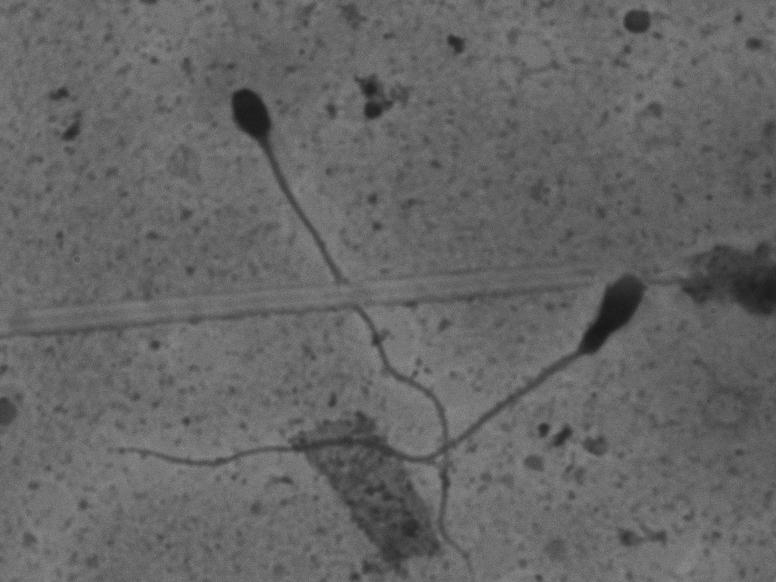Abnormal: (94, 263, 652, 472)
Normal: (217, 76, 494, 573)
